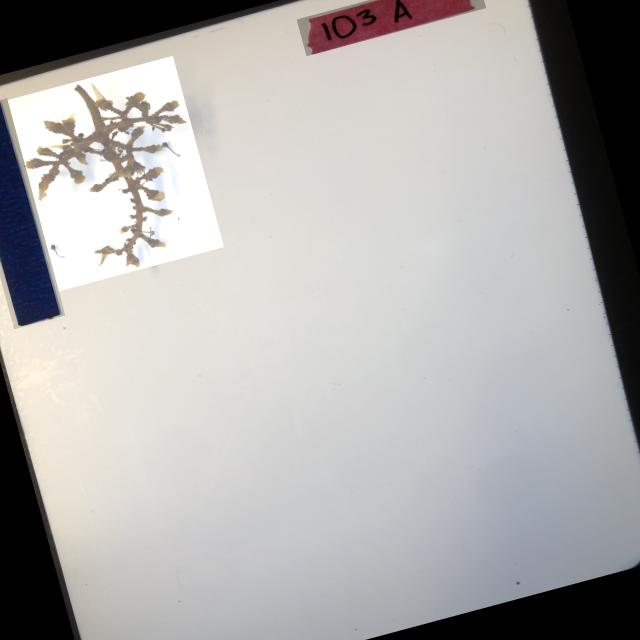index: (296, 0, 485, 55)
measure_label: (0, 97, 65, 328)
rachis_cluster: (8, 55, 224, 291)
